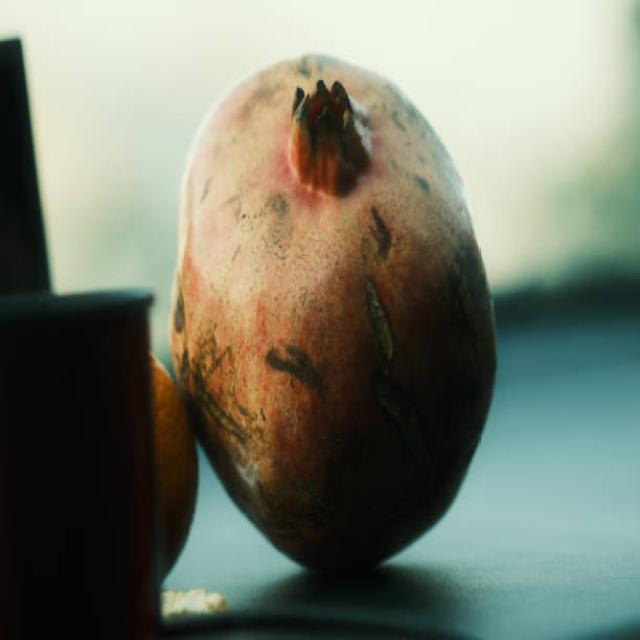overripe: (165, 47, 502, 570)
